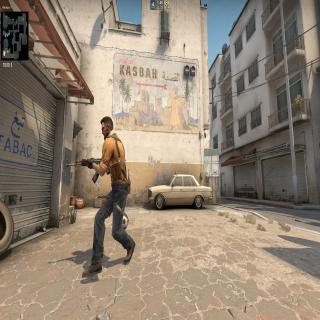T-Head: (100, 113, 114, 141)
